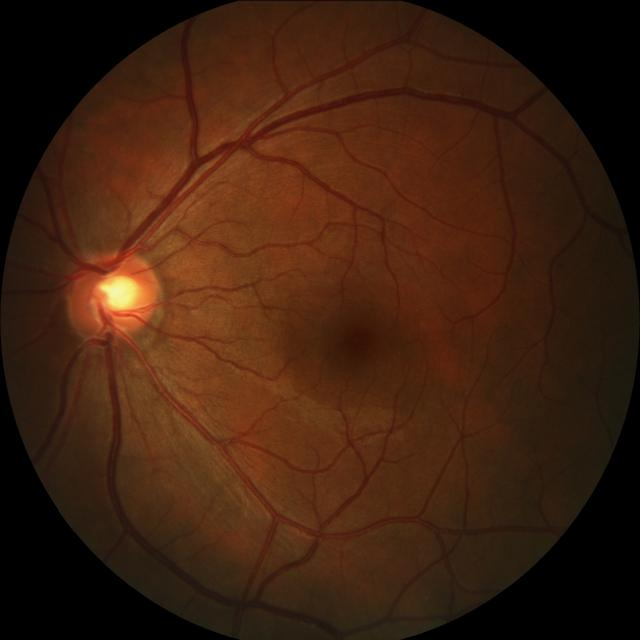OC: (94, 270, 143, 320)
OD: (64, 247, 164, 339)
